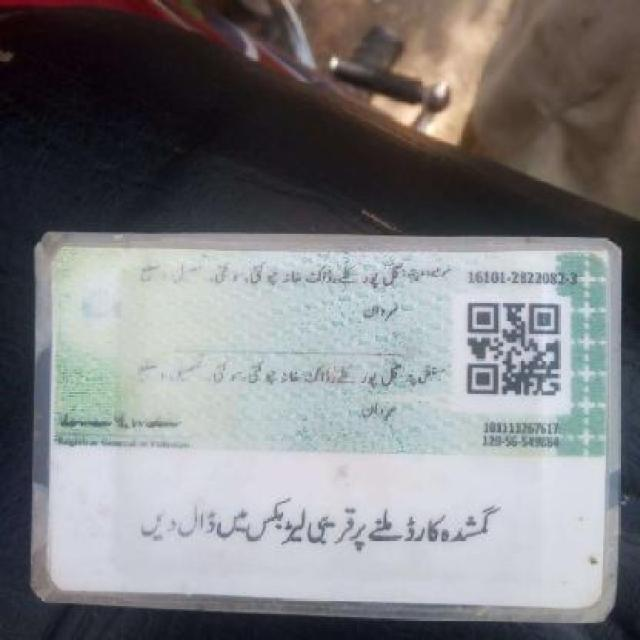Back: (34, 238, 611, 612)
